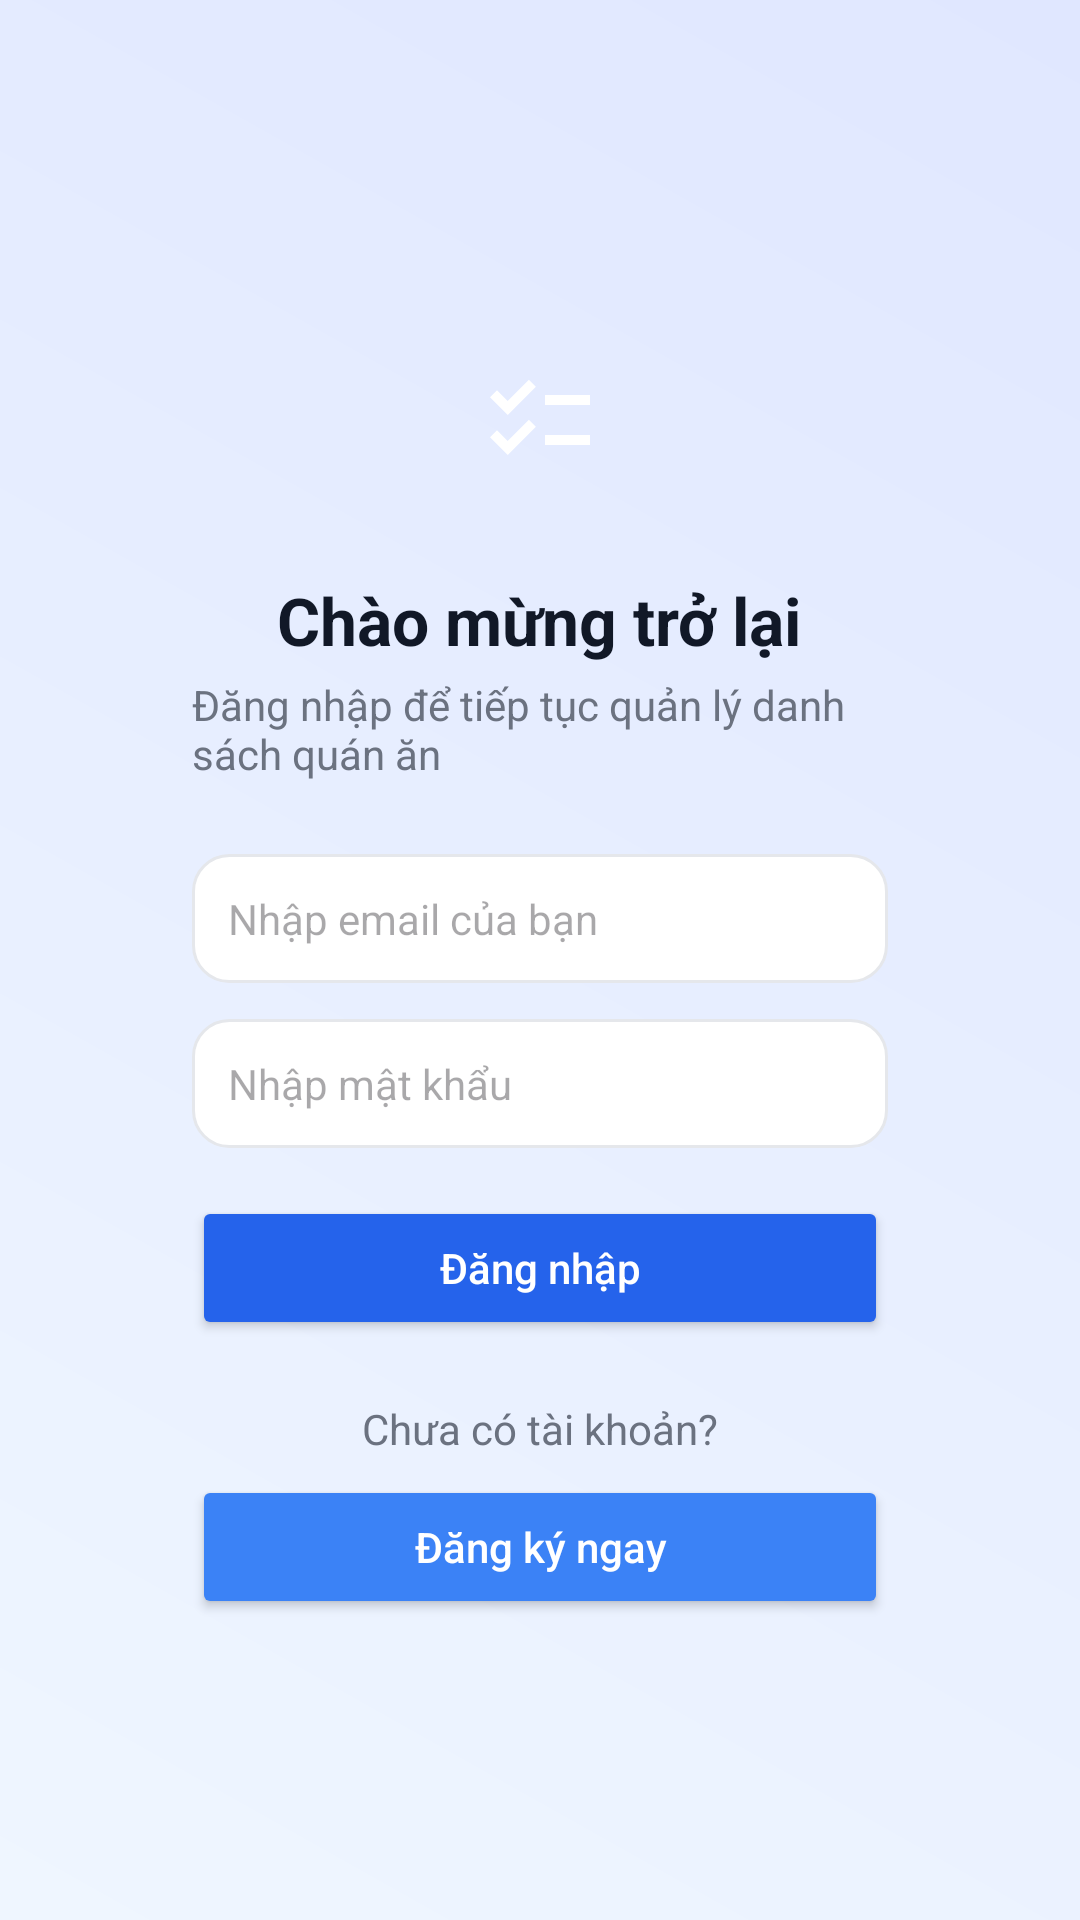

Point at icon controls on the screen. Image size 1080 x 1920, points as (x=x, y=y).
list: (x=540, y=417)
